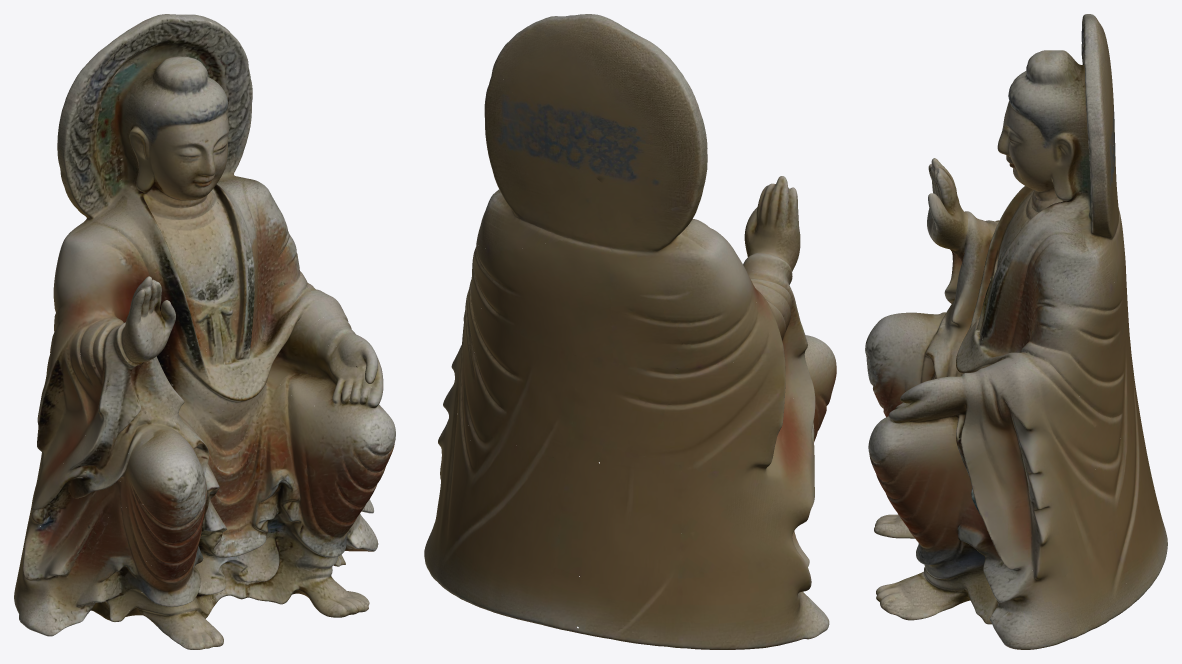
File: buddha.glb
3 views of the same model, side by side, from view 1: azimuth 30°, elevation 25°; view 2: azimuth 150°, elevation 25°; view 3: azimuth 270°, elevation 25° (orthographic). The views are drawn at different scales.
Parts seen in each view (by area): view 1: buddha-web; view 2: buddha-web; view 3: buddha-web.
Part boxes in pixels (left/top/right/bottom): buddha-web: left=14, top=14, right=395, bottom=649; buddha-web: left=424, top=14, right=836, bottom=649; buddha-web: left=865, top=14, right=1167, bottom=649.
Bounding box in the file's own units: 23.54 × 35 × 17.74.
1 material, 1 textured.
